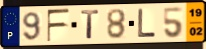5: (162, 6, 184, 40)
8: (106, 8, 128, 40)
9: (21, 11, 44, 42)
F: (46, 8, 71, 44)
L: (137, 8, 157, 40)
T: (79, 9, 100, 40)
